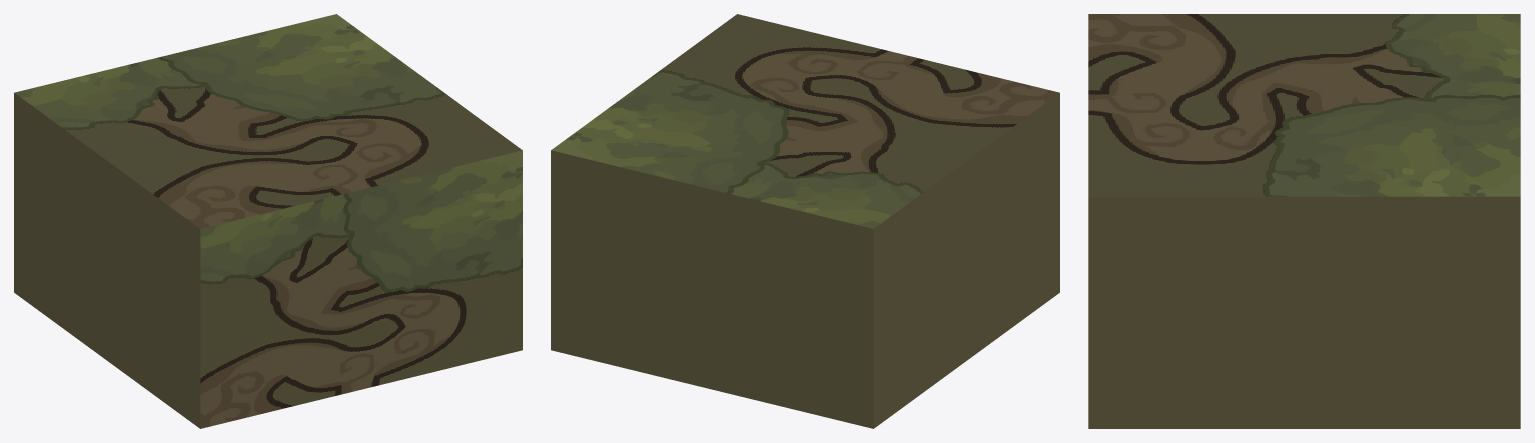
The model's file is Building_NatureShrine_Large.glb.
3 renders of one model, left to right at view 1: azimuth 30°, elevation 25°; view 2: azimuth 150°, elevation 25°; view 3: azimuth 270°, elevation 25°, orthographic. The views are drawn at different scales.
Visible parts, largest first — view 1: NatureShrine_Large; view 2: NatureShrine_Large; view 3: NatureShrine_Large.
Boxes of the visible parts, x1=… form: NatureShrine_Large: x1=14, y1=14, x2=522, y2=428; NatureShrine_Large: x1=551, y1=14, x2=1059, y2=428; NatureShrine_Large: x1=1088, y1=14, x2=1520, y2=428.
Bounding box in the file's own units: 2.7 × 1.6 × 2.7.
Materials: 1 (1 with a texture image).
